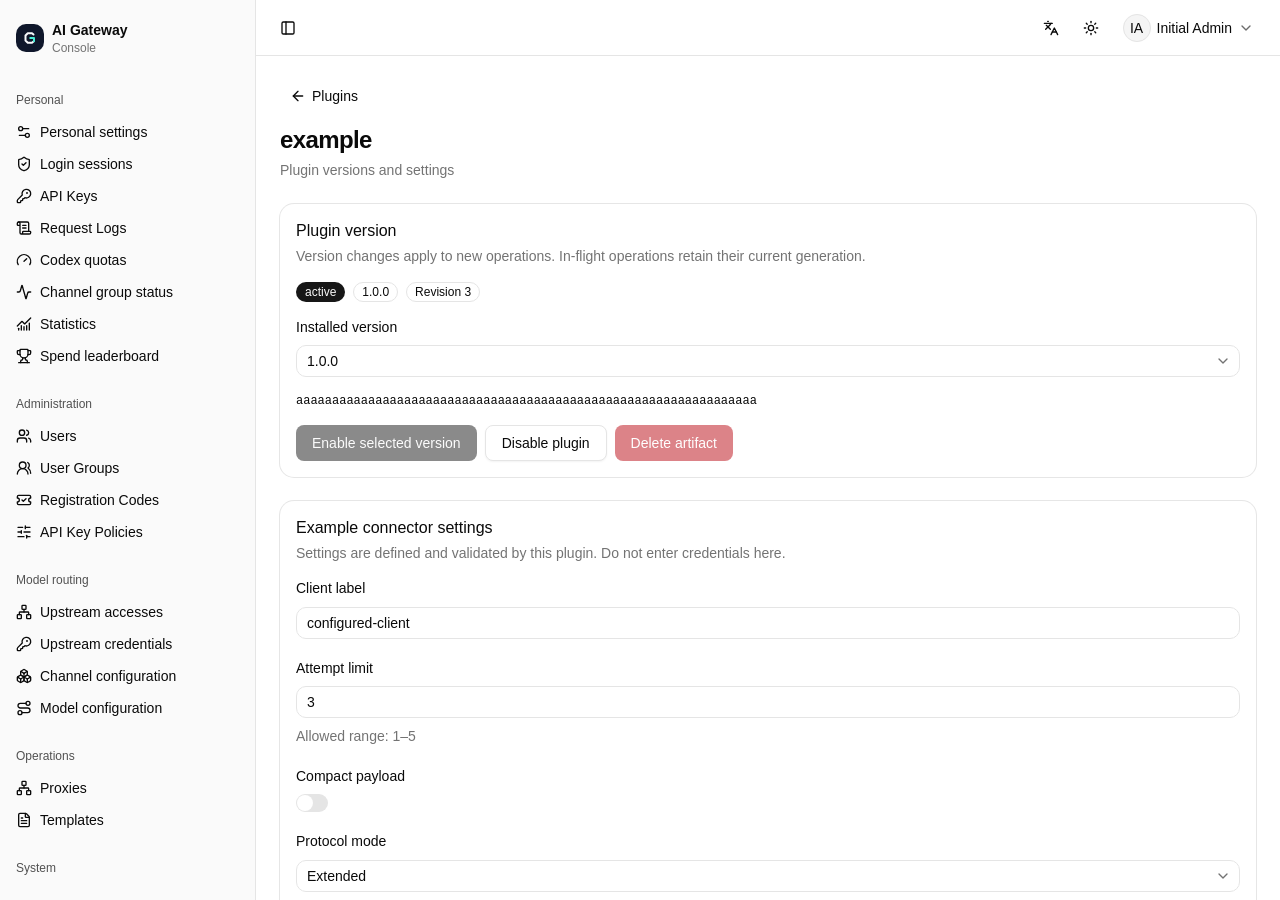
it: Plugin management › rejects a required field before requesting native authorization
This screenshot has width=1280, height=900.
Step 1. Clear the number field labelled "Attempt limit" → (768, 702), box [296,686,1240,718]
(page scrolled)
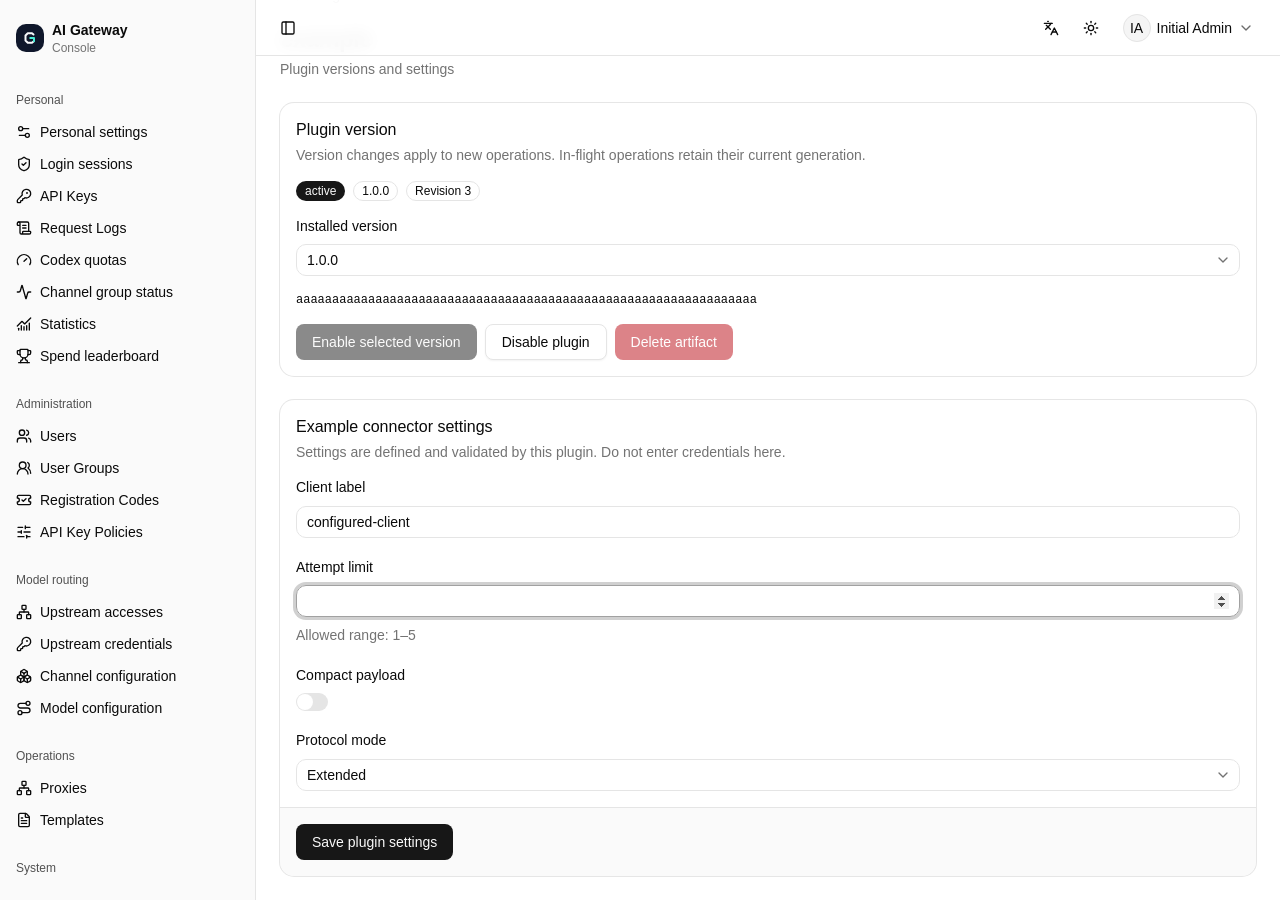
Step 2. Click the button "Save plugin settings" → (375, 842), box [296,824,453,860]
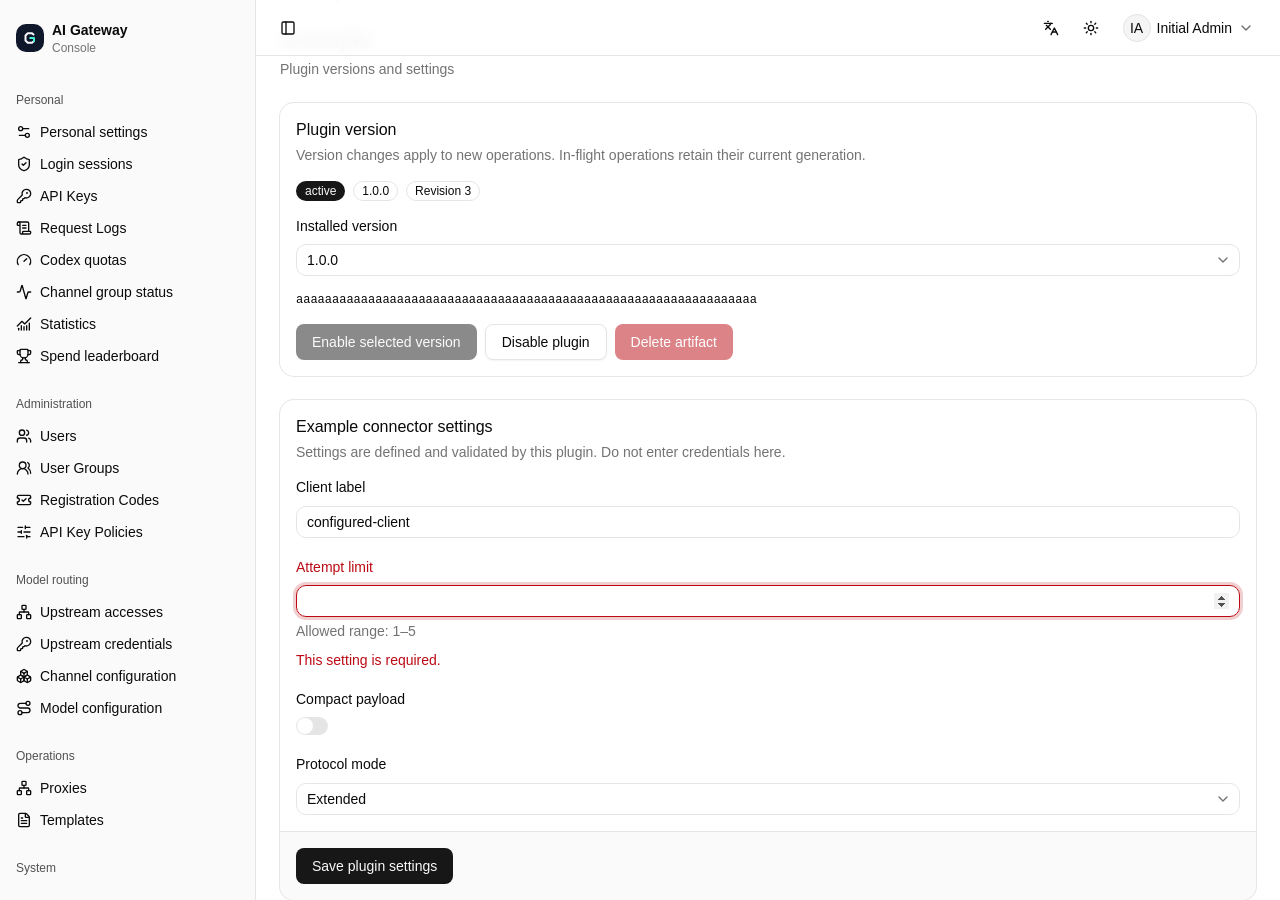
Now the text "This setting is required." is shown, box [296,652,441,668]
